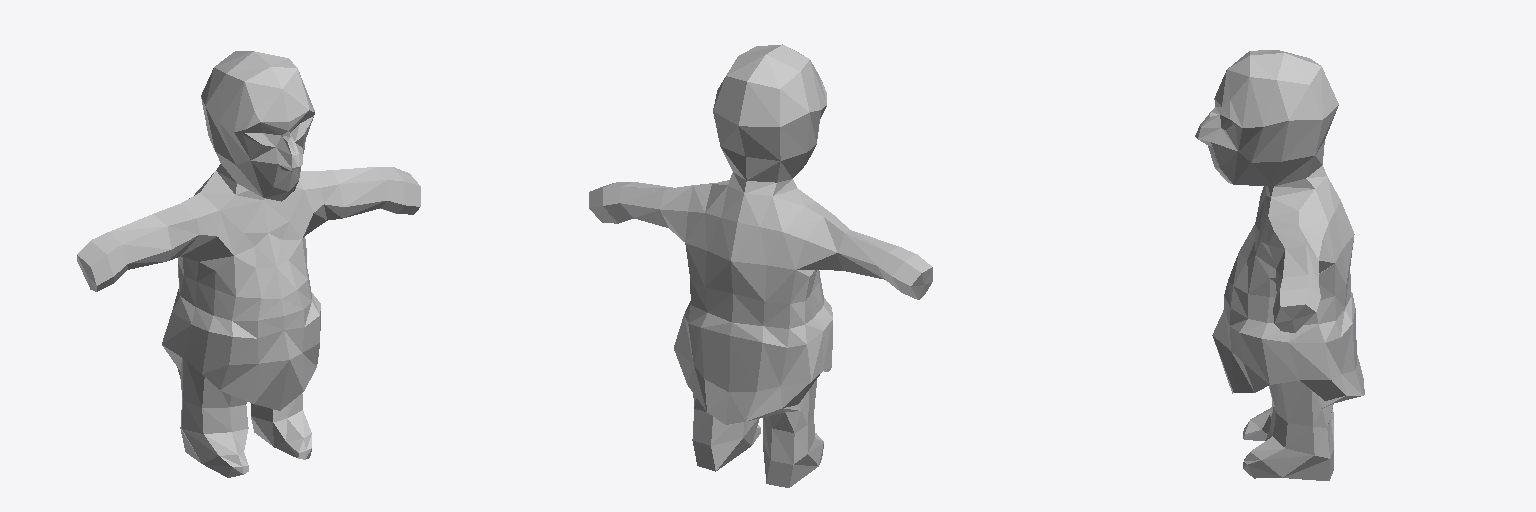
The model's file is zingaroMESH.obj.
3 renders of one model, left to right at view 1: azimuth 30°, elevation 25°; view 2: azimuth 150°, elevation 25°; view 3: azimuth 270°, elevation 25°, orthographic.
Parts seen in each view (by area): view 1: Plane; view 2: Plane; view 3: Plane.
Part boxes in pixels (x1,y1,x2,y2): Plane: (77,51,420,477); Plane: (589,44,932,487); Plane: (1195,50,1364,480).
Size of the model in its own units: 14.04 by 16.38 by 6.21.